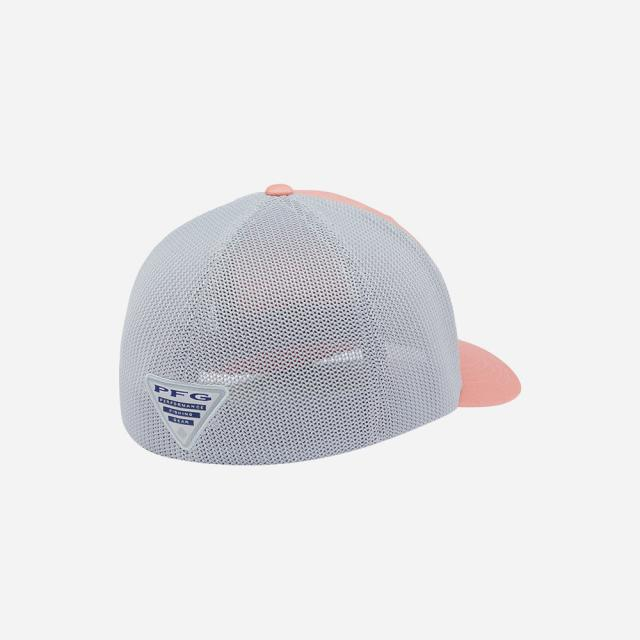no_helmet: (100, 166, 533, 478)
